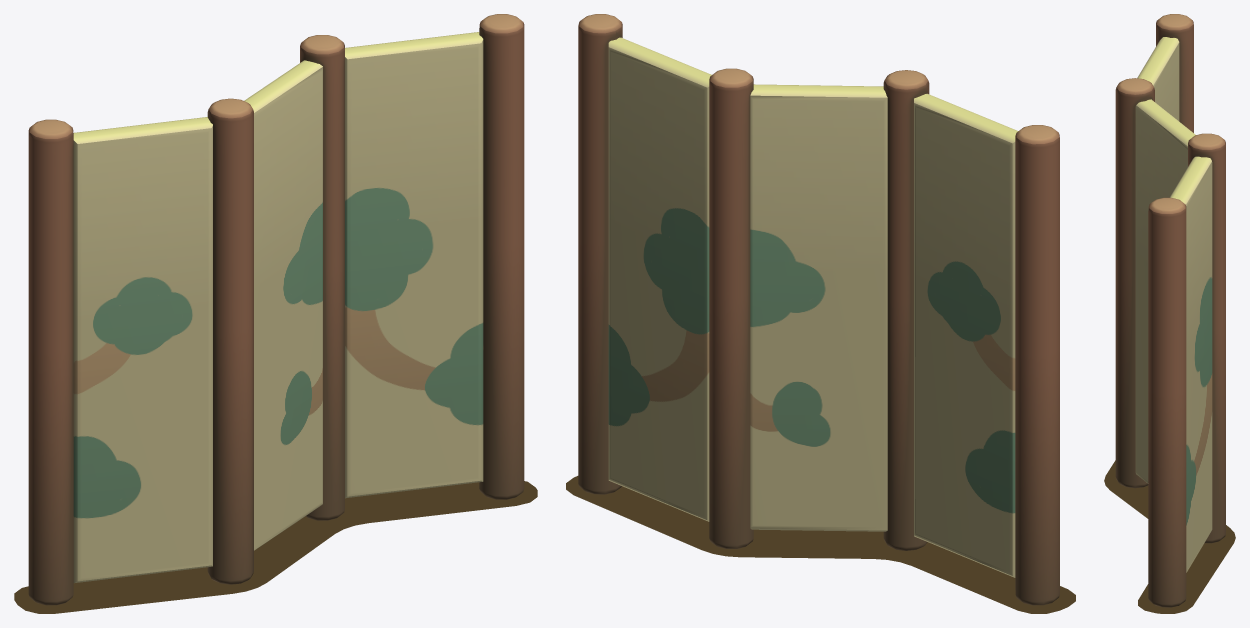
File: ScreenDoor01.fbx
3 views of the same model, side by side, from view 1: azimuth 30°, elevation 25°; view 2: azimuth 150°, elevation 25°; view 3: azimuth 270°, elevation 25° (orthographic). The views are drawn at different scales.
Parts seen in each view (by area): view 1: polySurface2, polySurface1; view 2: polySurface2, polySurface1; view 3: polySurface2, polySurface1.
Boxes of the visible parts, x1,y1,x2,y2 form: polySurface2: [28, 14, 524, 605]; polySurface1: [14, 481, 537, 613]; polySurface2: [578, 14, 1059, 605]; polySurface1: [566, 476, 1075, 613]; polySurface2: [1115, 14, 1225, 607]; polySurface1: [1104, 460, 1235, 613].
Size of the model in its own units: 335 by 297 by 89.07.
